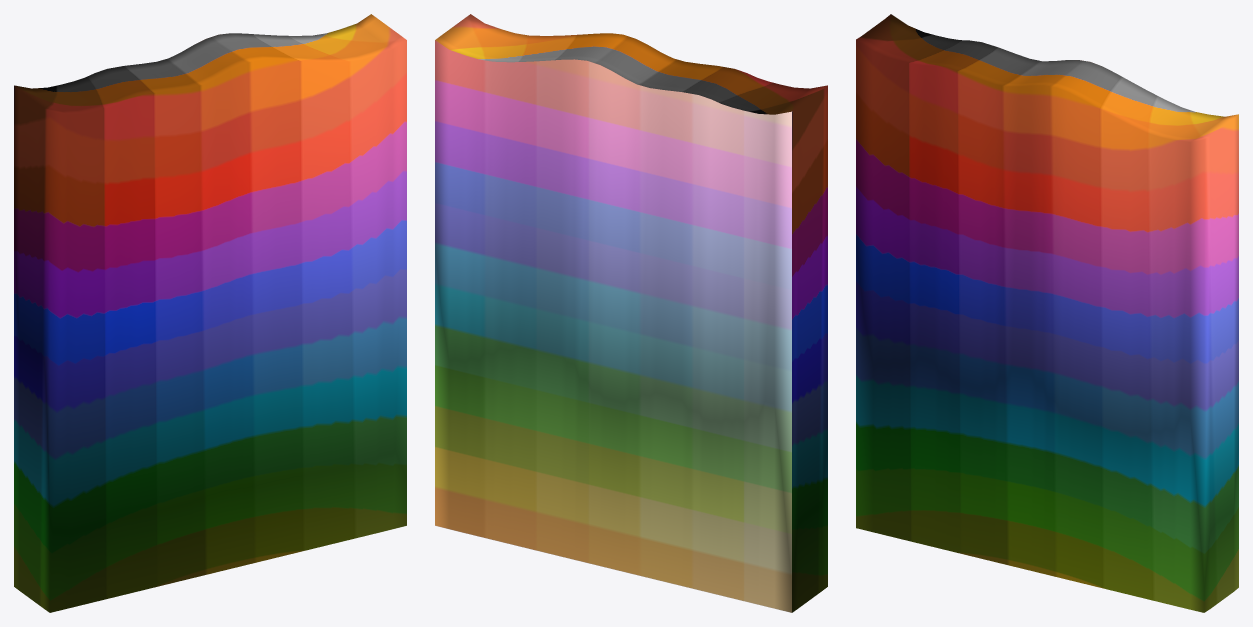
Rendered from Western_Platform_DeformMesh4.fbx.
The picture shows the model from 3 angles, left to right: view 1: azimuth 30°, elevation 25°; view 2: azimuth 150°, elevation 25°; view 3: azimuth 330°, elevation 25°; orthographic projection. The views are drawn at different scales.
Visible parts, largest first — view 1: Cube.005; view 2: Cube.005; view 3: Cube.005.
Part boxes in pixels (<box>): Cube.005: <box>14,14,406,612</box>; Cube.005: <box>435,14,827,612</box>; Cube.005: <box>856,14,1238,612</box>.
Bounding box in the file's own units: 3246 × 4353 × 564.
Materials: 1 (1 with a texture image).
